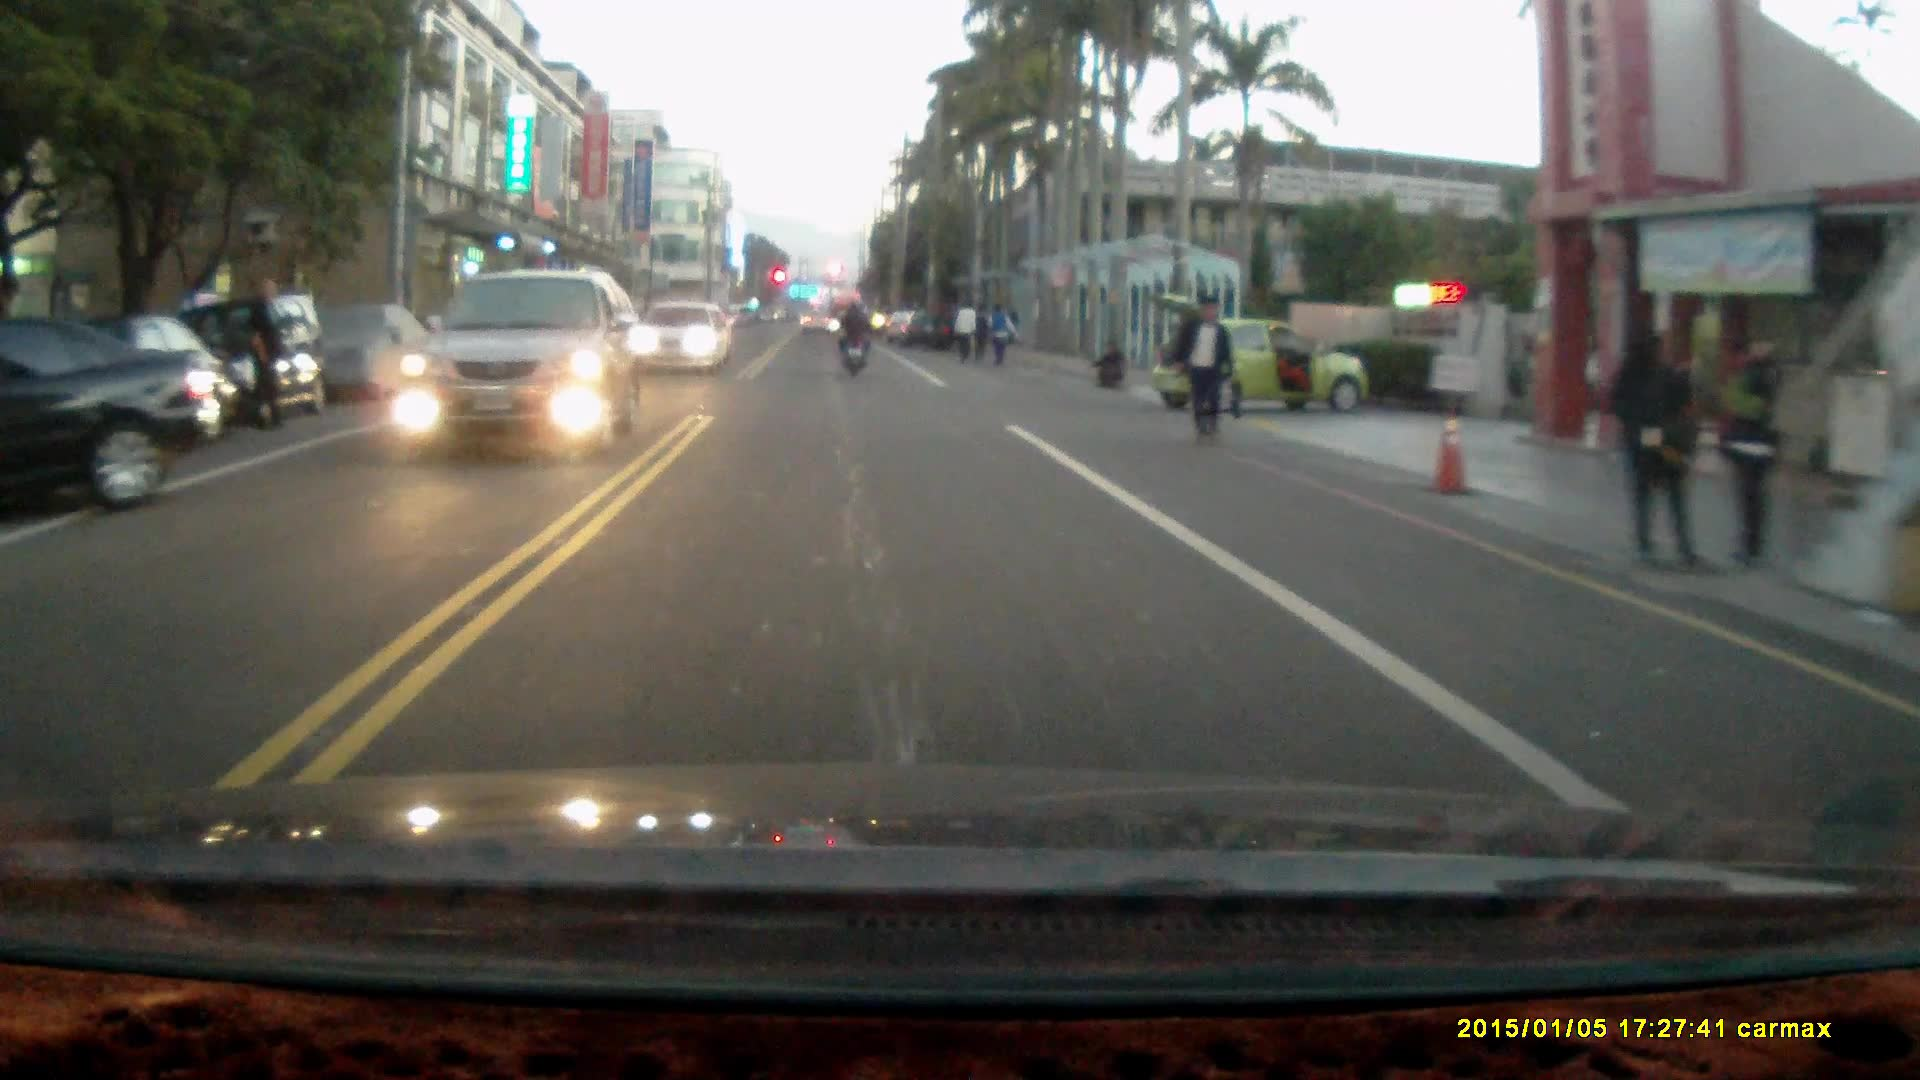pedestrian: (1600, 318, 1710, 576), (1719, 325, 1779, 570), (1173, 291, 1232, 445), (986, 298, 1012, 367), (1092, 333, 1124, 388), (954, 296, 976, 366), (972, 300, 992, 364)
rider: (833, 297, 873, 377)
vehicle: (0, 311, 223, 534), (404, 270, 646, 455), (1147, 293, 1377, 413), (179, 299, 334, 425), (636, 303, 736, 379)
